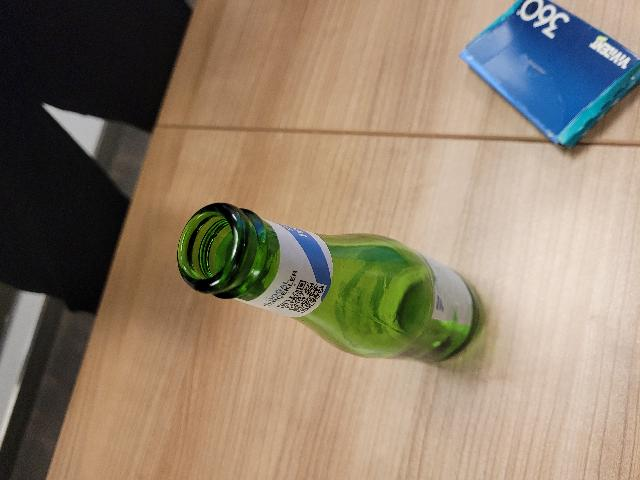Kagit: (460, 0, 640, 153)
Metal: (175, 198, 480, 367)
